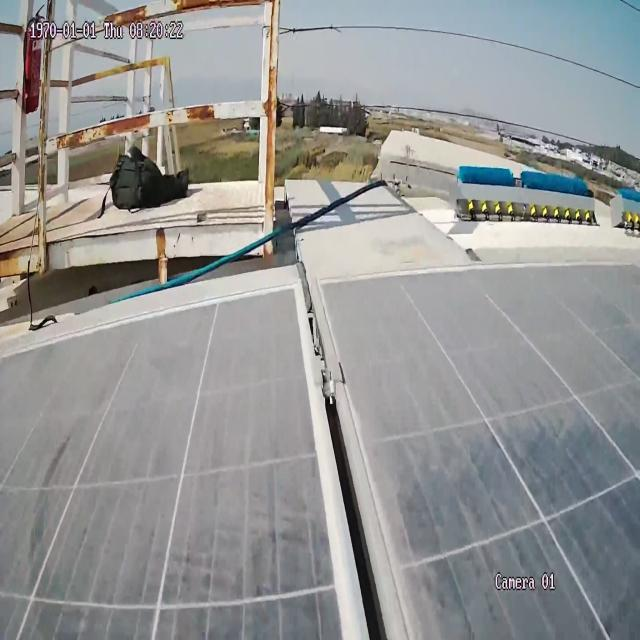interior panel: (276, 274, 474, 640)
